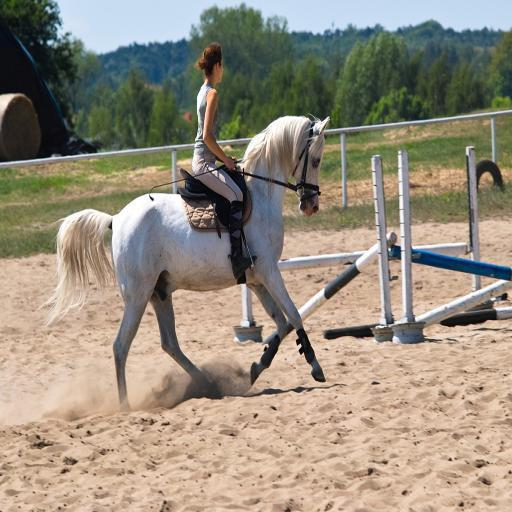horse: (38, 114, 328, 417)
